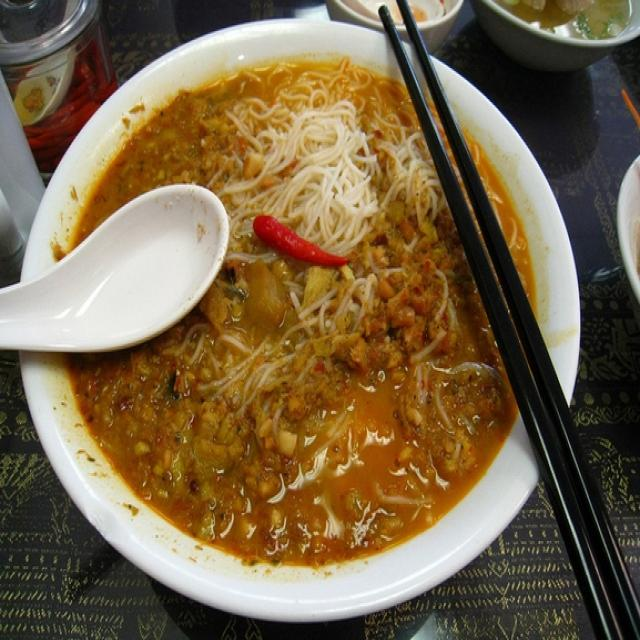面条主食: (24, 31, 594, 602)
